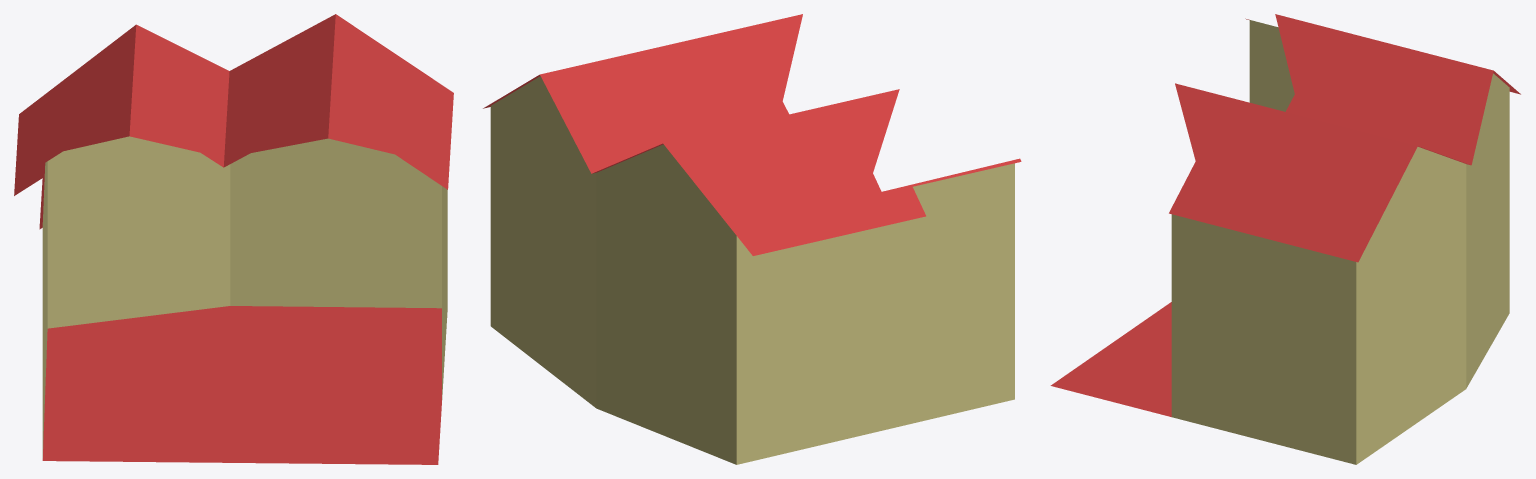
3 views of the same model, side by side, from view 1: azimuth 30°, elevation 25°; view 2: azimuth 150°, elevation 25°; view 3: azimuth 270°, elevation 25° (orthographic). The views are drawn at different scales.
Size of the model in its own units: 22.53 by 20.13 by 13.24.
